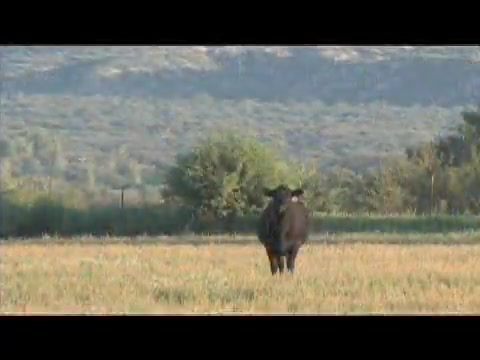cow: (256, 186, 313, 279)
